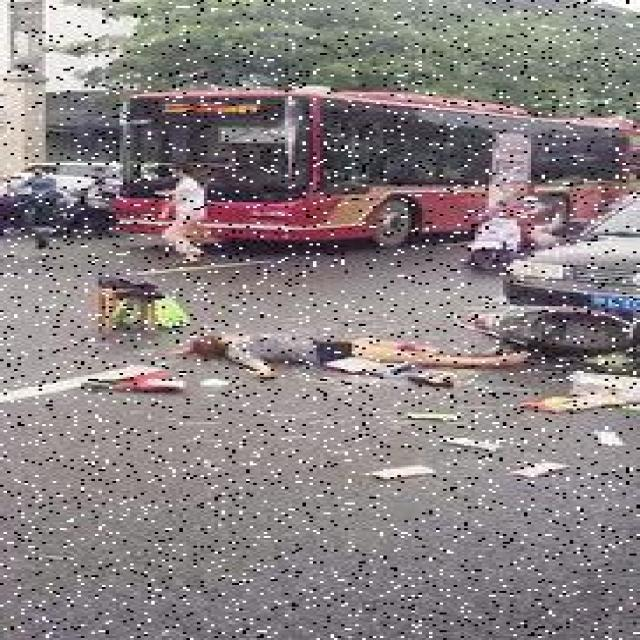fall: (172, 326, 520, 375)
